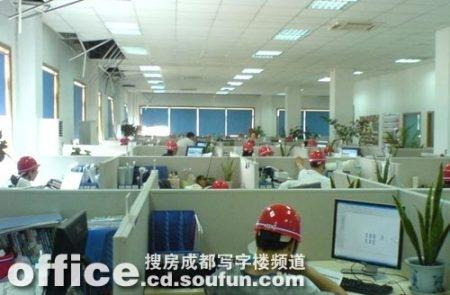helmet: (250, 201, 306, 241), (307, 148, 325, 162)
